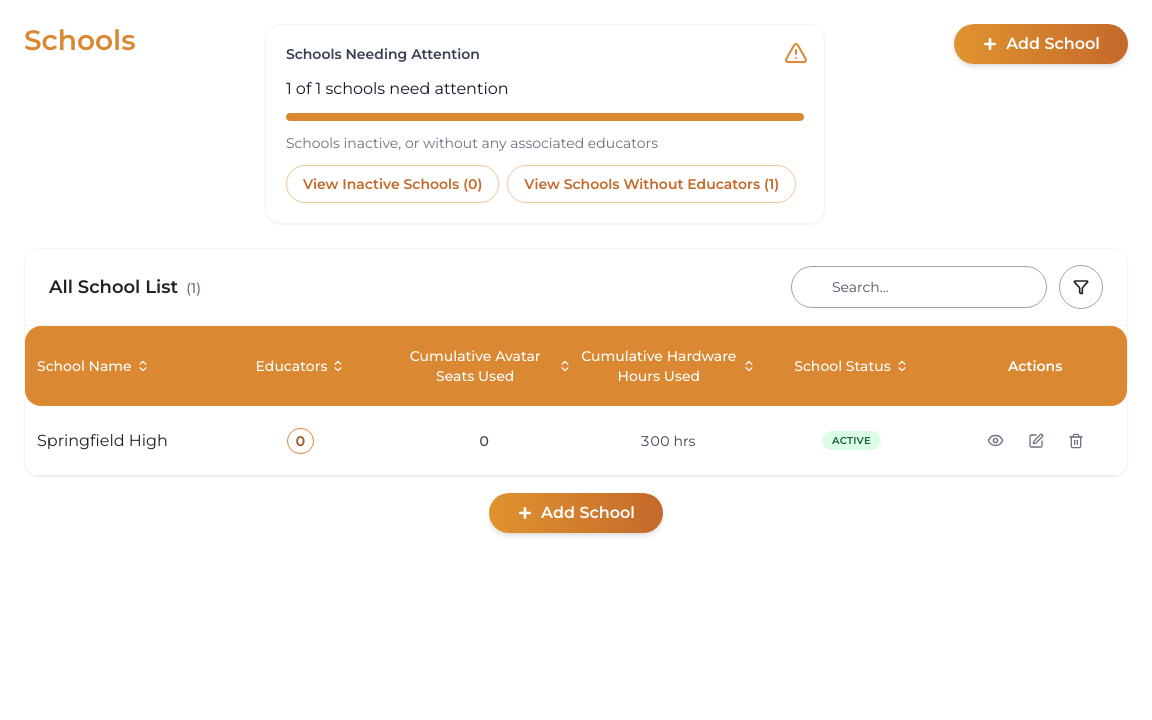
Test case: Delete School › Confirmation Dialog — Opens › opens delete confirmation modal when Delete is clicked
Click the button named "Delete". click: (1076, 440)
box: left=1062, top=426, right=1090, bottom=454
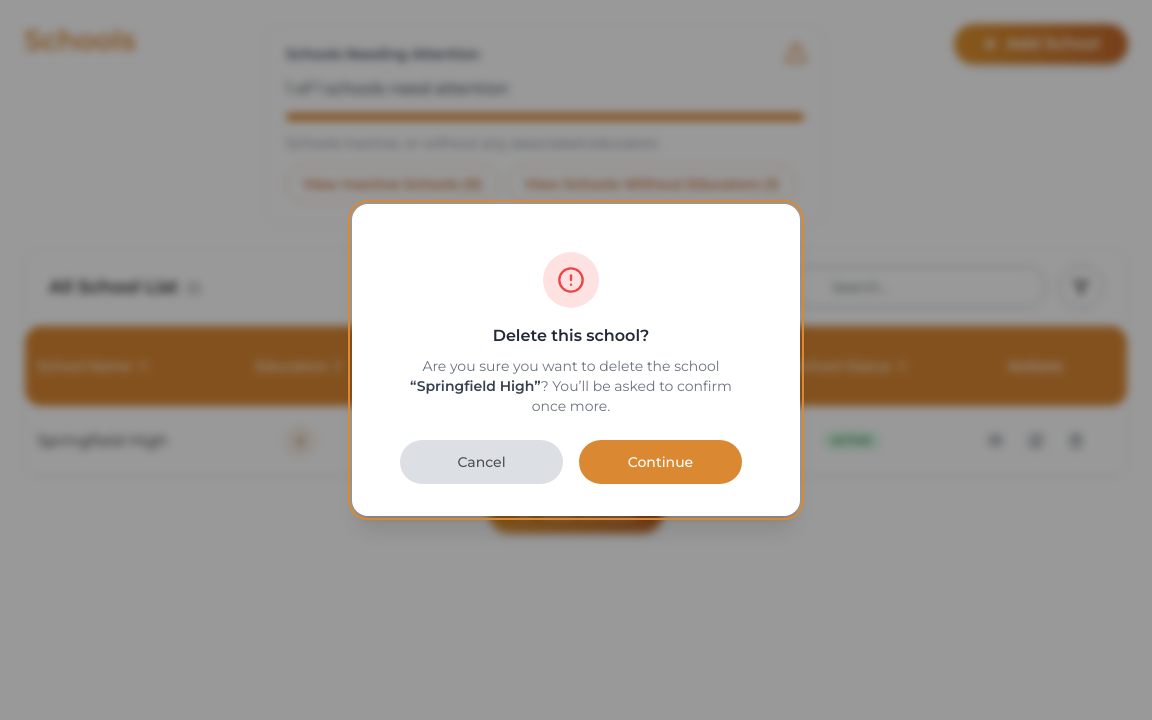
Check: the dialog is shown, box left=352, top=204, right=800, bottom=516
